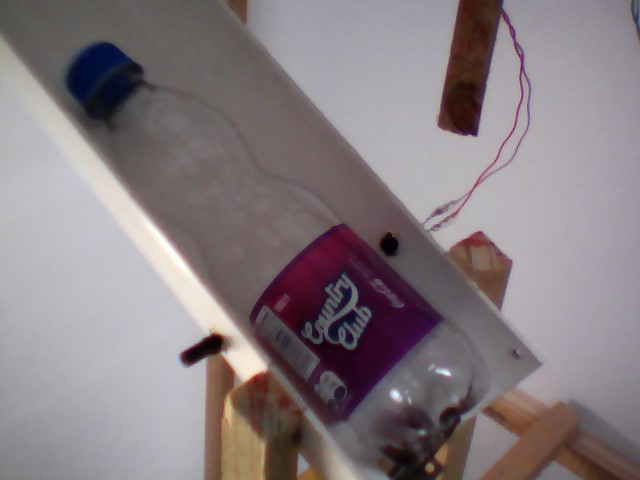plastico: (56, 33, 494, 480)
